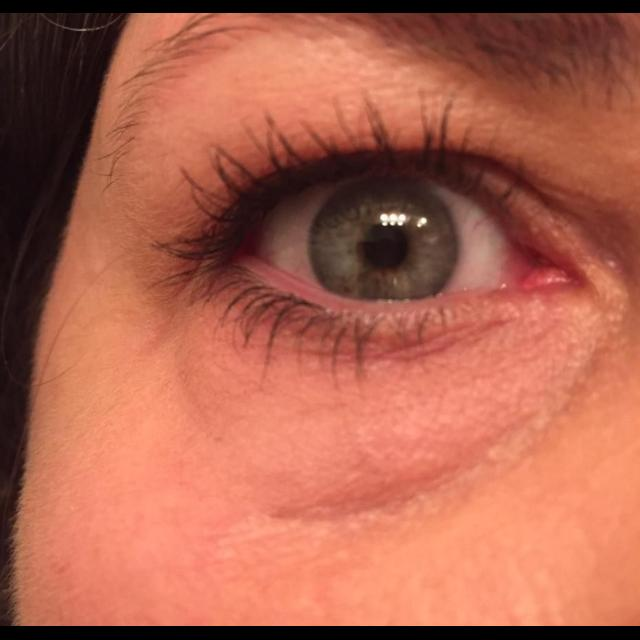eye: (253, 176, 520, 299)
iris: (310, 183, 459, 294)
